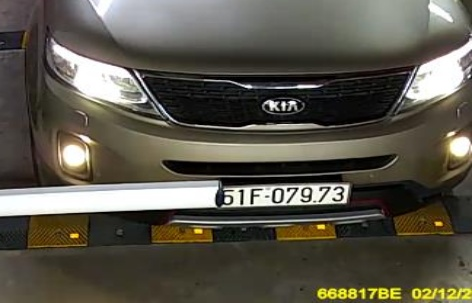plate: (217, 180, 357, 213)
